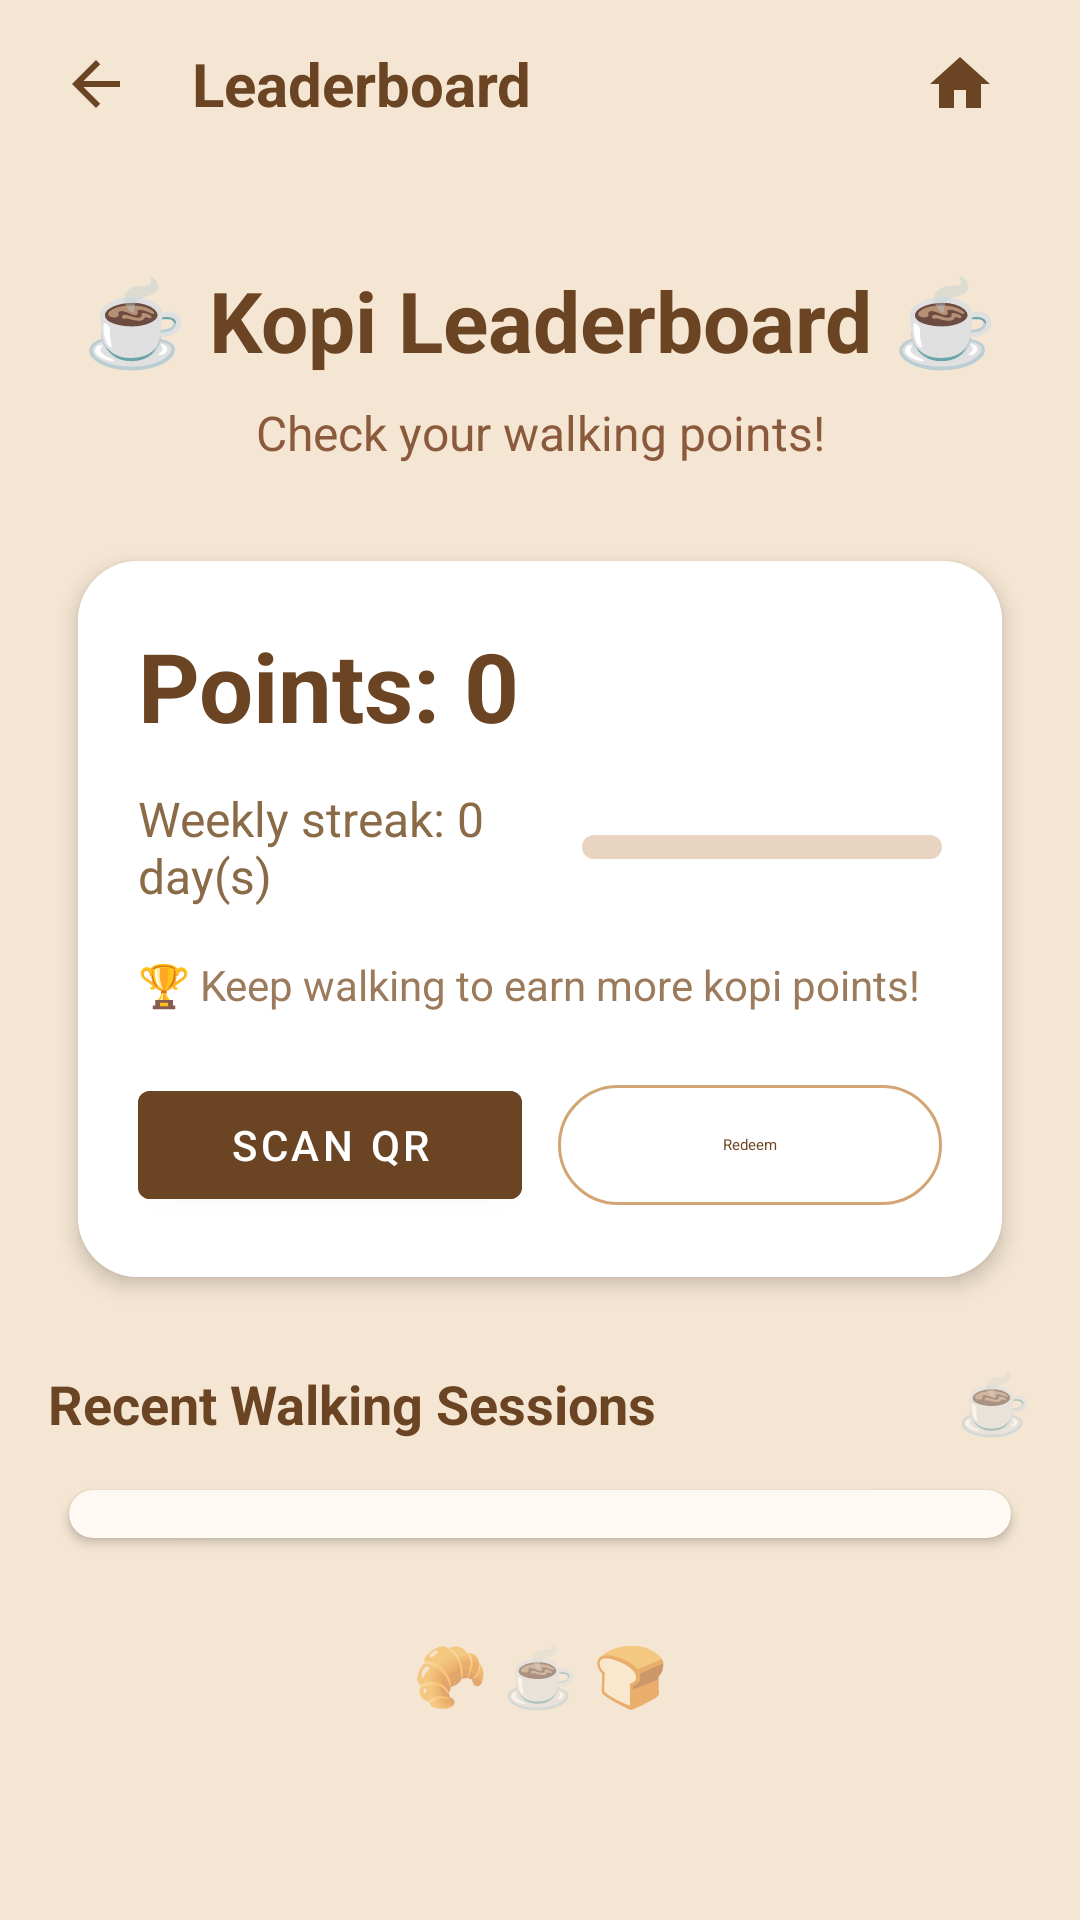

Icons on this 1080x1920 Android screen, each with its box as (x1, y1, x2, y2):
Back: (72, 60, 120, 108)
Home: (930, 57, 990, 108)
